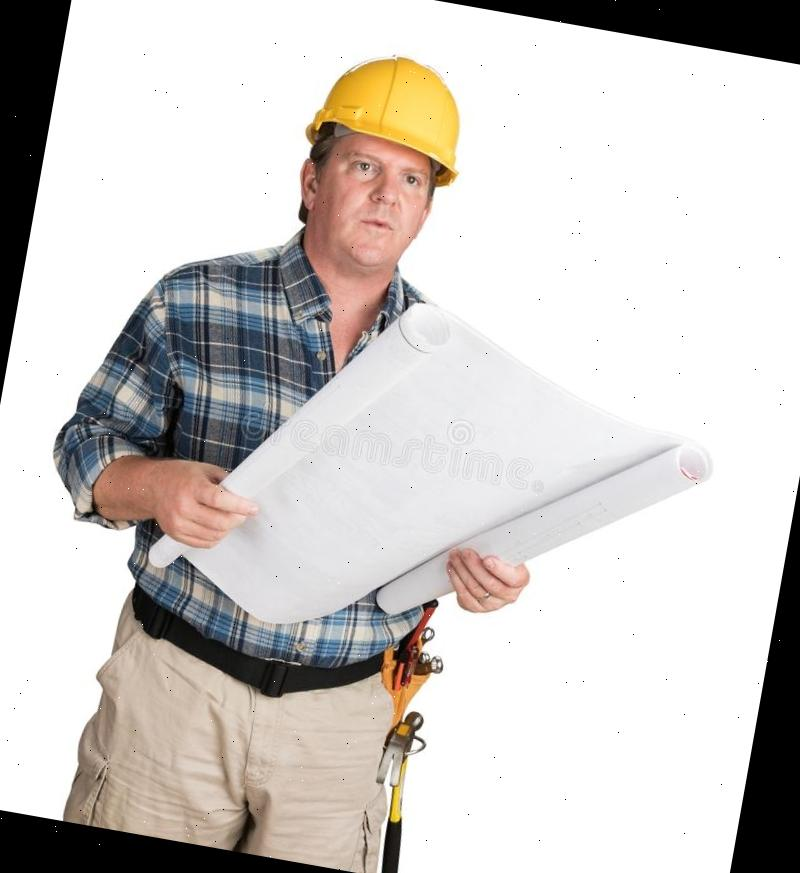helmet: (302, 37, 485, 180)
no_wear: (110, 243, 349, 525)
